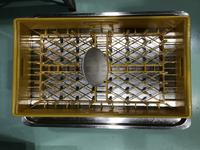Dish: (80, 47, 107, 86)
